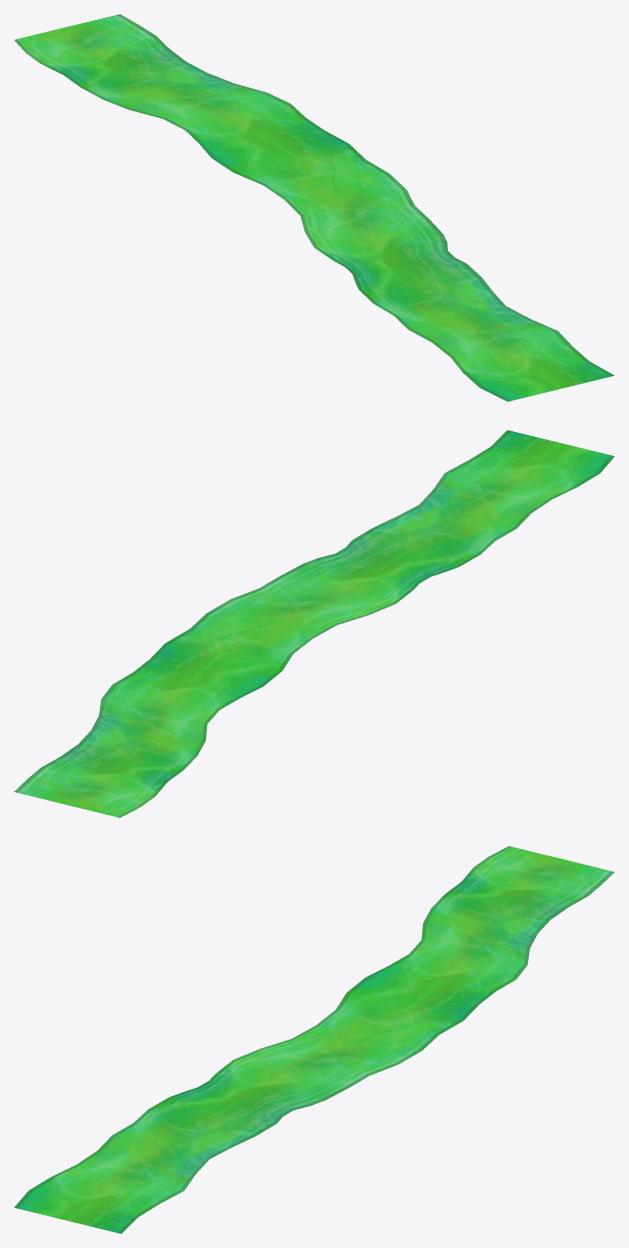
The model's file is Amazon04_Lu02.FBX.
3 views of the same model, one above another, from view 1: azimuth 30°, elevation 25°; view 2: azimuth 150°, elevation 25°; view 3: azimuth 330°, elevation 25° (orthographic).
Visible parts, largest first — view 1: Amazon04_Lu02; view 2: Amazon04_Lu02; view 3: Amazon04_Lu02.
Part boxes in pixels (box(x1,y1,x2,y2)): Amazon04_Lu02: box(14, 14, 614, 401); Amazon04_Lu02: box(14, 430, 614, 817); Amazon04_Lu02: box(14, 846, 614, 1233).
Bounding box in the file's own units: 1390 × 4.55e-13 × 7814.
